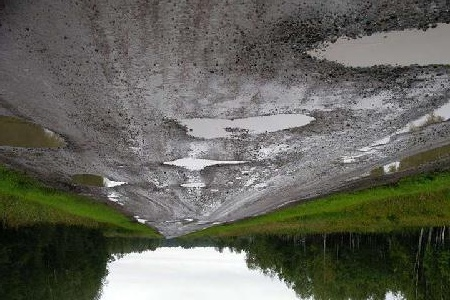pothole: (300, 17, 449, 74), (161, 111, 318, 142), (0, 116, 72, 154), (160, 155, 250, 172), (69, 171, 129, 193), (178, 181, 208, 191), (133, 215, 149, 226)
